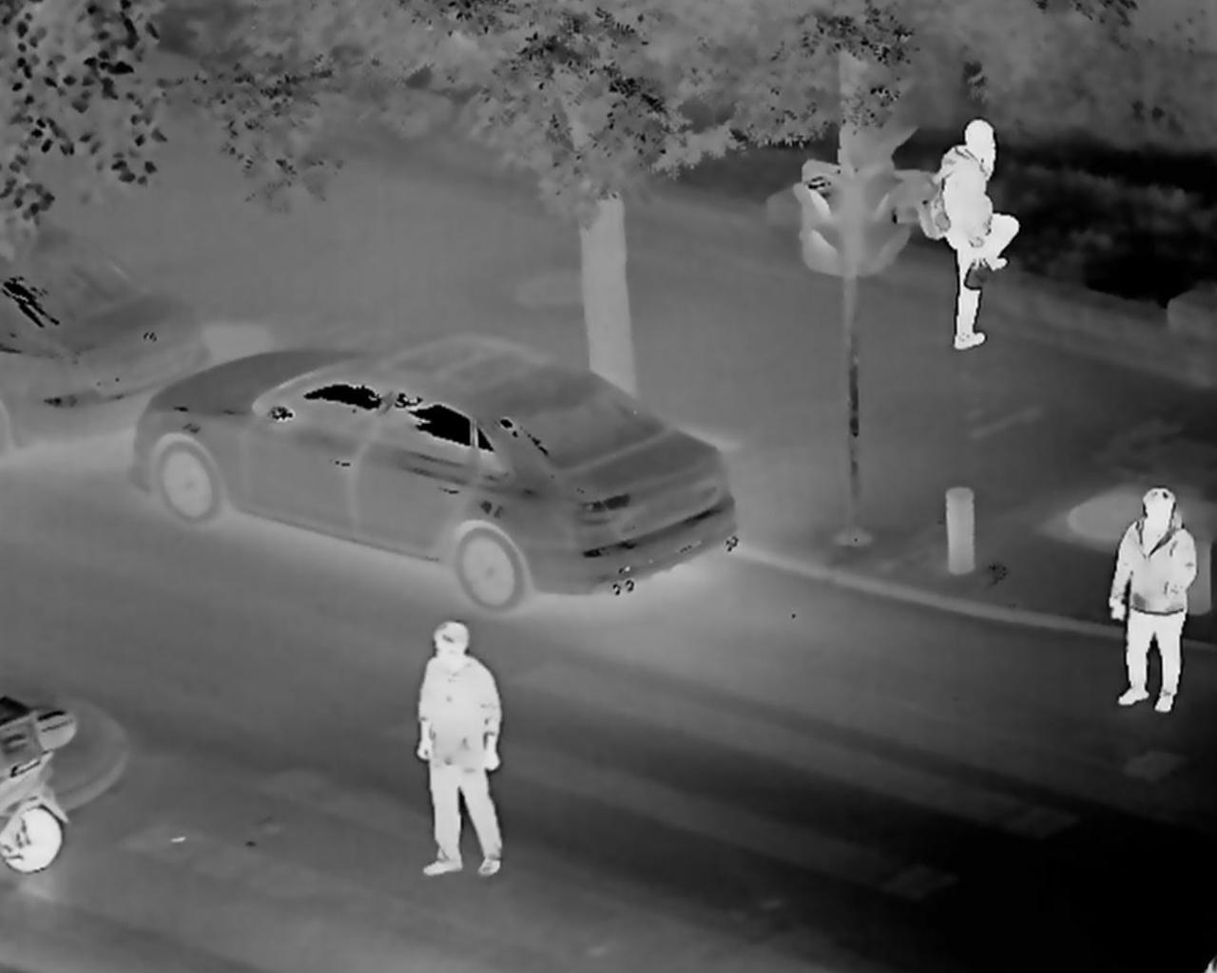person: (396, 617, 514, 885), (922, 104, 1026, 359), (1102, 473, 1209, 719)
